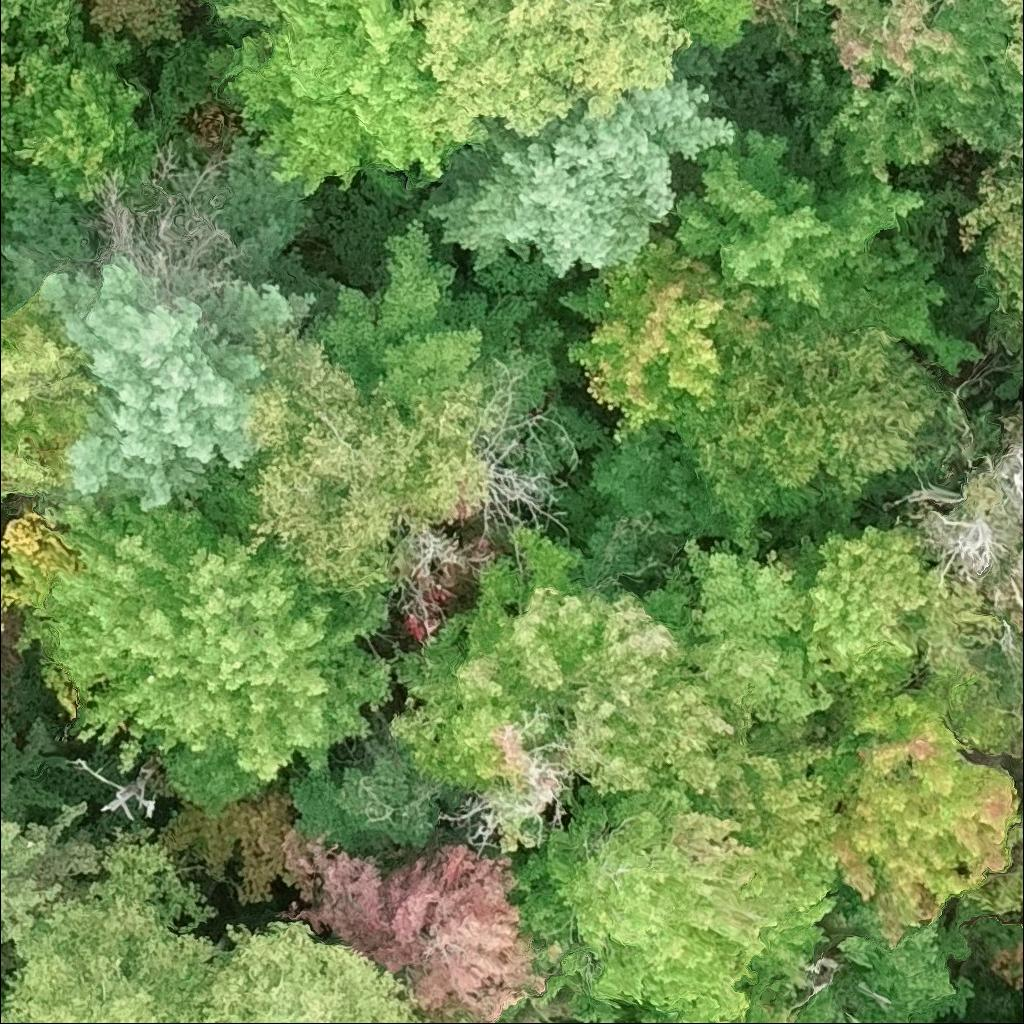crown: (0, 129, 330, 514), (24, 498, 398, 819), (514, 735, 859, 1023), (195, 318, 497, 604), (390, 577, 754, 797), (417, 39, 736, 282), (300, 216, 589, 415), (278, 829, 568, 1023), (655, 118, 929, 315), (674, 304, 948, 499), (831, 678, 1022, 948), (203, 0, 457, 202), (558, 230, 774, 443), (0, 825, 225, 1023), (784, 0, 1023, 186), (400, 0, 694, 147), (644, 534, 836, 726), (0, 3, 161, 205), (182, 914, 436, 1023), (792, 881, 978, 1023), (794, 524, 931, 702), (0, 713, 105, 944), (750, 0, 992, 89), (0, 294, 101, 504), (741, 920, 835, 1023), (658, 0, 756, 48), (0, 0, 76, 52), (203, 0, 273, 33), (0, 140, 23, 240), (1000, 0, 1023, 90), (0, 34, 15, 111), (619, 1004, 672, 1023), (1018, 136, 1023, 190), (1022, 1018, 1023, 1023)
